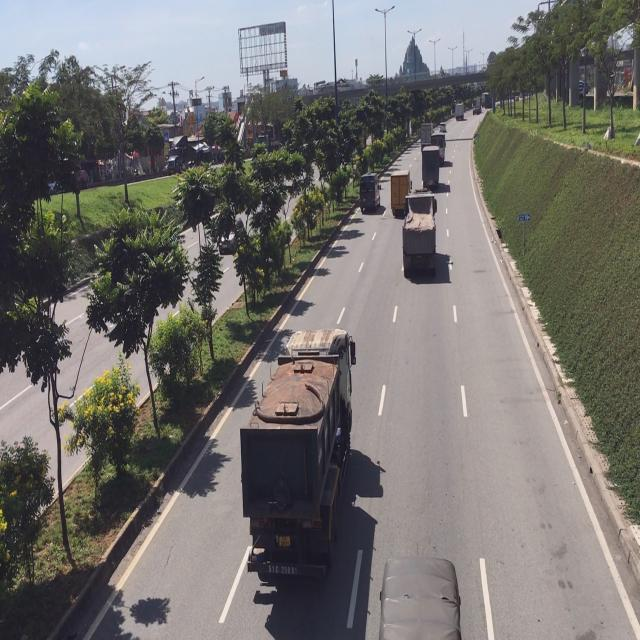bus: (359, 171, 381, 214)
truck: (239, 321, 354, 588), (380, 552, 460, 640), (402, 190, 441, 280), (390, 170, 410, 218), (420, 144, 440, 189)
